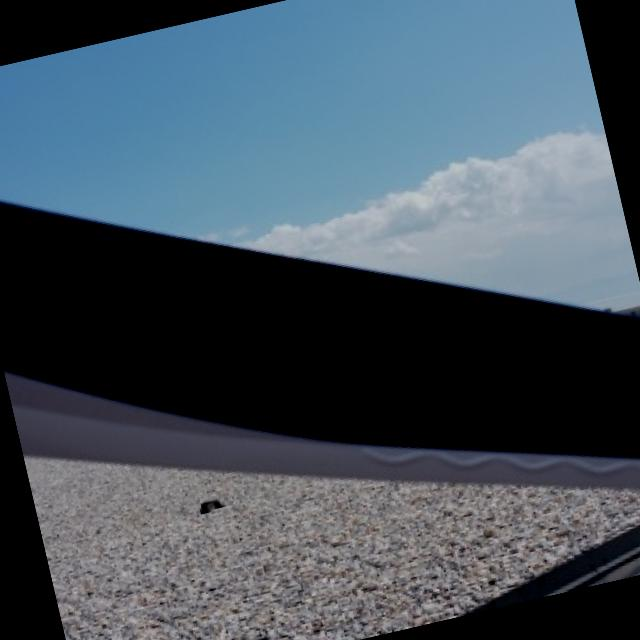healthy: (0, 200, 640, 484), (475, 524, 640, 611)
